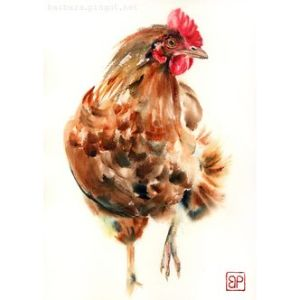hen: (62, 7, 248, 292)
